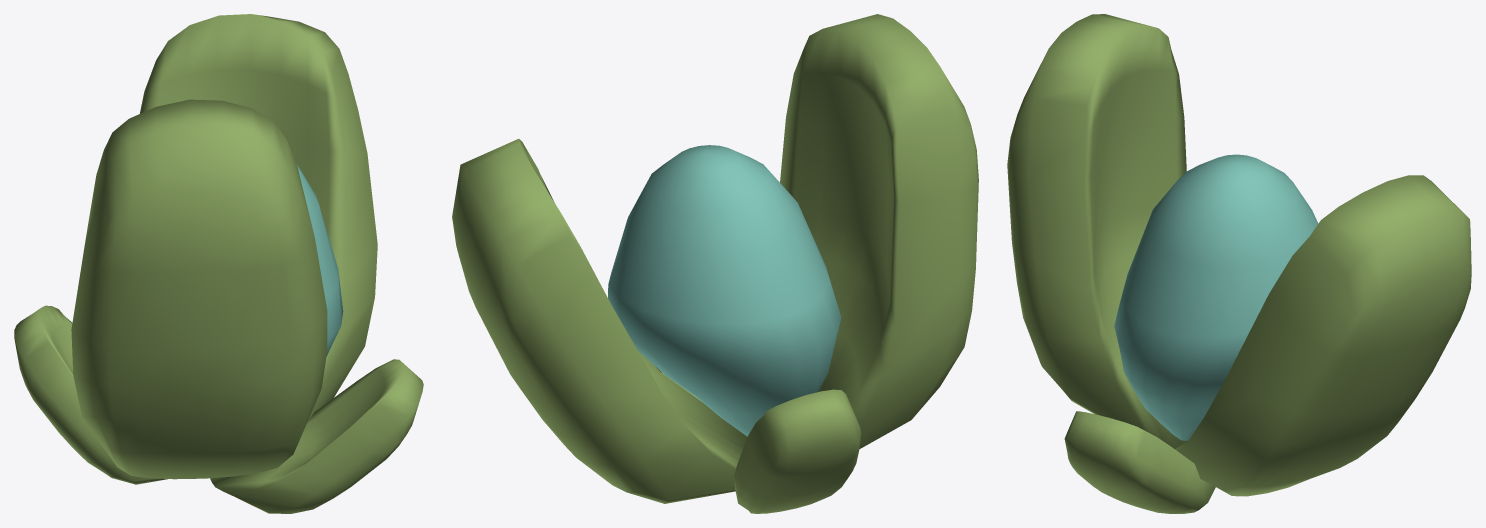
Rendered from Glowing Plant small.fbx.
3 views of the same model, side by side, from view 1: azimuth 30°, elevation 25°; view 2: azimuth 150°, elevation 25°; view 3: azimuth 270°, elevation 25° (orthographic). The views are drawn at different scales.
Parts seen in each view (by area): view 1: polySurface9, pSphere3; view 2: polySurface9, pSphere3; view 3: polySurface9, pSphere3.
Part boxes in pixels (<box>): polySurface9: <box>14,14,423,513</box>; pSphere3: <box>297,164,343,356</box>; polySurface9: <box>452,14,978,513</box>; pSphere3: <box>608,145,841,436</box>; polySurface9: <box>1007,14,1471,513</box>; pSphere3: <box>1114,154,1318,440</box>.
Size of the model in its own units: 0.3187 by 0.3469 by 0.3438.
